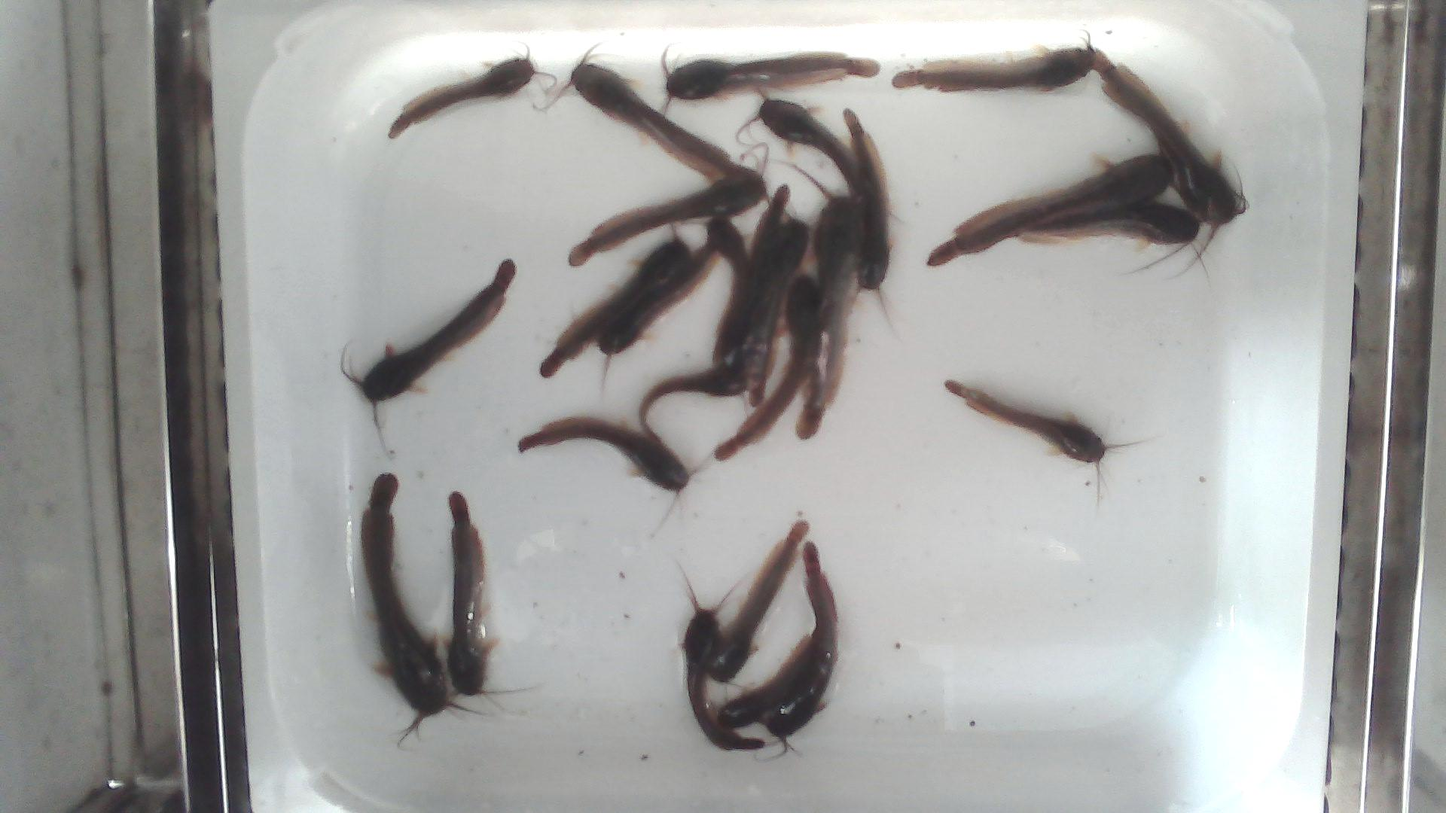lele: (1094, 48, 1247, 275), (340, 259, 516, 456), (534, 41, 755, 184), (361, 473, 468, 738), (925, 154, 1168, 268), (944, 379, 1142, 504), (569, 143, 770, 265), (538, 224, 689, 378), (791, 167, 868, 441), (716, 274, 824, 466), (518, 417, 698, 532), (754, 542, 839, 760), (595, 247, 722, 389), (389, 41, 563, 138), (678, 569, 766, 753), (709, 521, 807, 681), (662, 43, 880, 113), (713, 185, 791, 371), (734, 88, 859, 203), (743, 213, 809, 405), (1013, 203, 1204, 269), (844, 110, 896, 319), (893, 38, 1098, 91), (444, 492, 493, 702), (721, 627, 815, 731), (639, 364, 747, 437), (706, 215, 752, 332)
